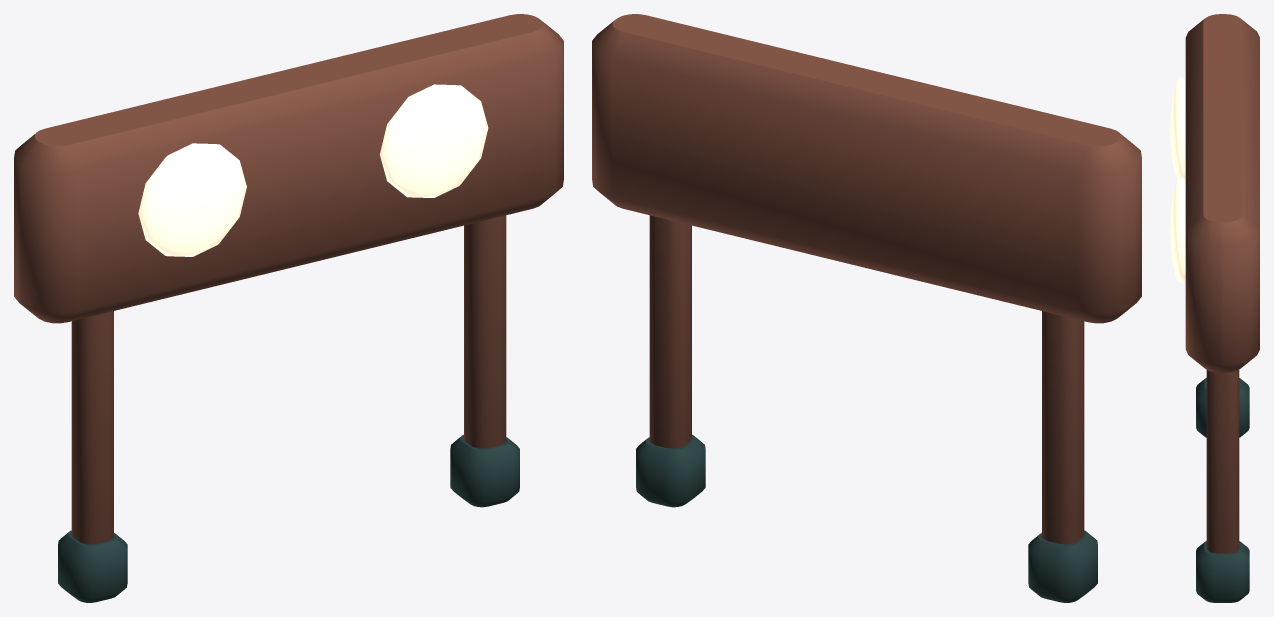
The model's file is cafe_works_4.glb.
3 views of the same model, side by side, from view 1: azimuth 30°, elevation 25°; view 2: azimuth 150°, elevation 25°; view 3: azimuth 270°, elevation 25° (orthographic). The views are drawn at different scales.
Visible parts, largest first — view 1: CafeWorks4; view 2: CafeWorks4; view 3: CafeWorks4.
Boxes of the visible parts, x1,y1,x2,y2 form: CafeWorks4: (14, 14, 563, 602); CafeWorks4: (592, 14, 1141, 602); CafeWorks4: (1170, 14, 1259, 602).
Size of the model in its own units: 1.78 by 1.48 by 0.303.
